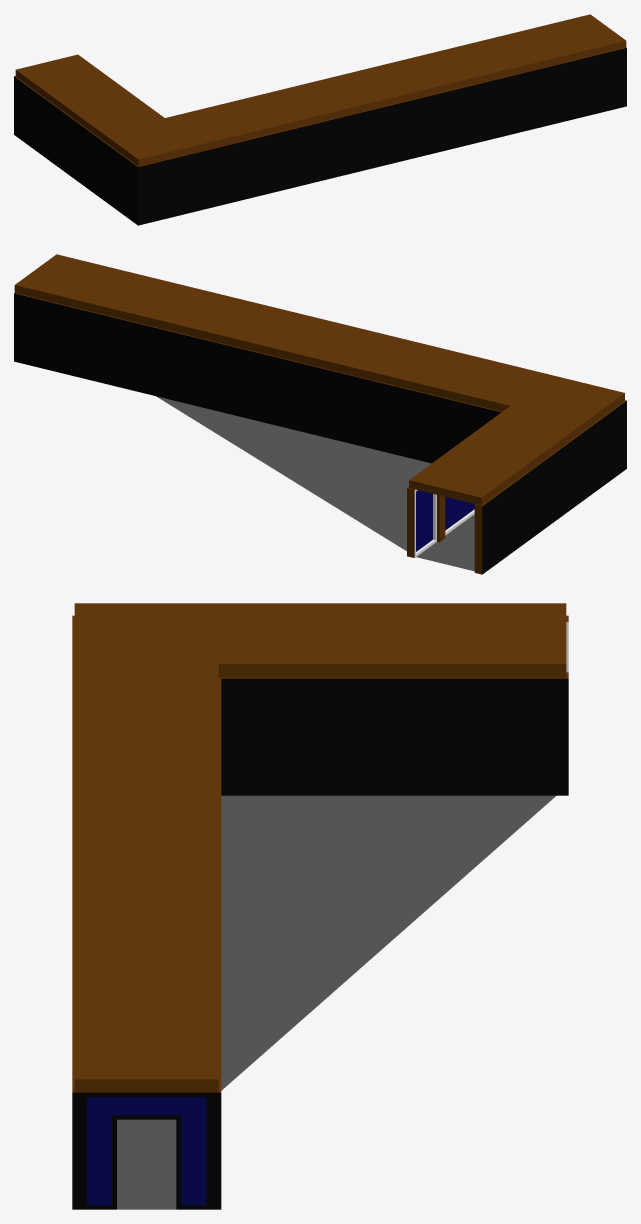
Rendered from Corridor01 _ Copy.fbx.
The picture shows the model from 3 angles, top to bottom: view 1: azimuth 30°, elevation 25°; view 2: azimuth 150°, elevation 25°; view 3: azimuth 270°, elevation 25°; orthographic projection. The views are drawn at different scales.
Visible parts, largest first — view 1: Model; view 2: Model; view 3: Model.
Boxes of the visible parts, left/top/right/bottom form: Model: left=14, top=14, right=626, bottom=225; Model: left=14, top=254, right=626, bottom=574; Model: left=72, top=603, right=568, bottom=1209.
Size of the model in its own units: 22.73 by 2.9 by 10.
